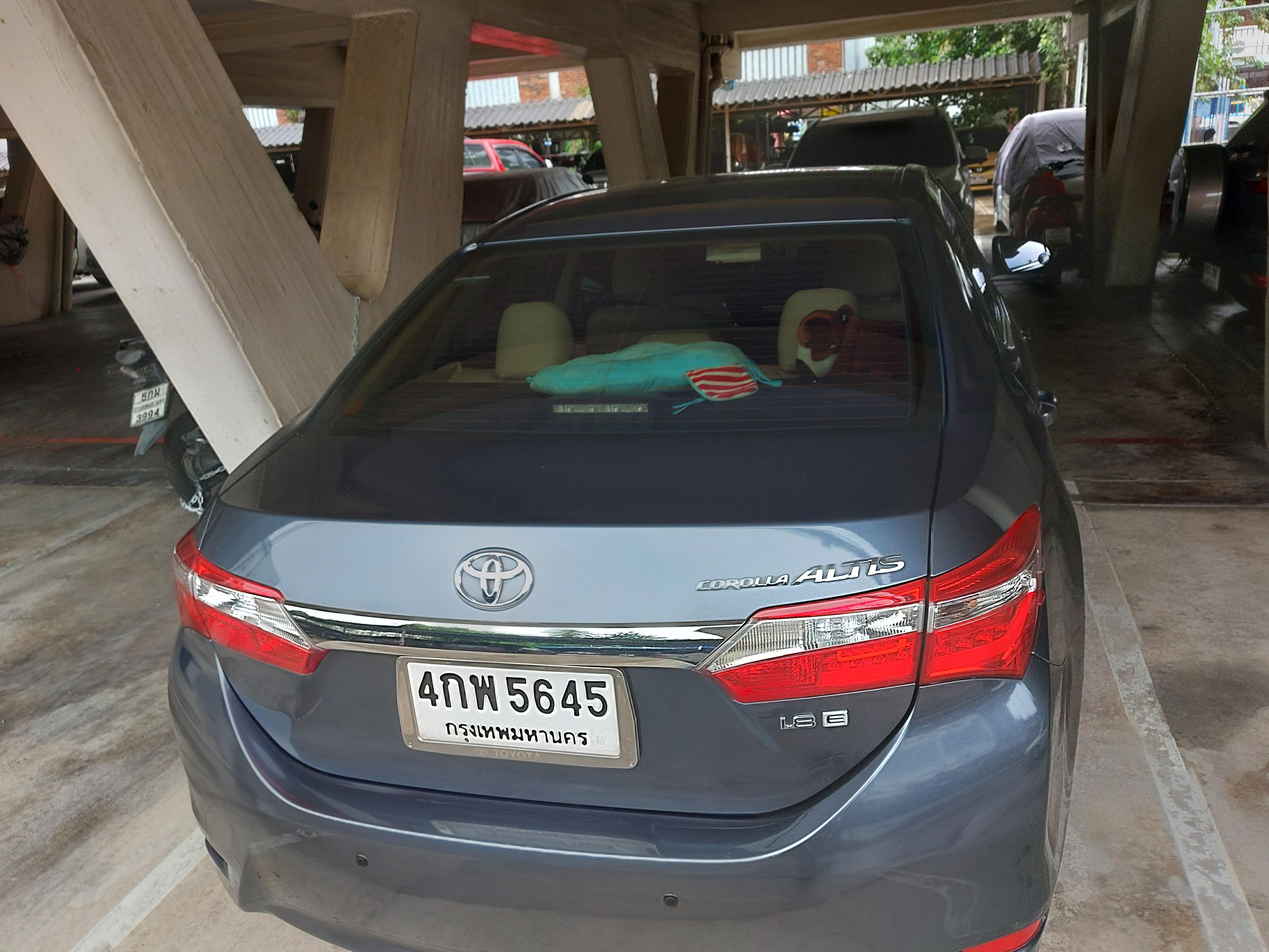license-plate: (394, 652, 643, 771)
